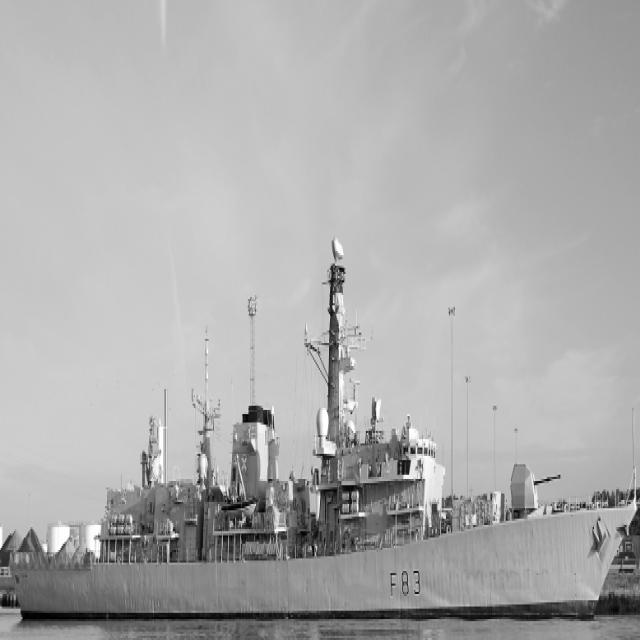Fragata: (10, 238, 640, 625)
